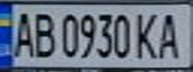0: (57, 9, 81, 58), (112, 10, 133, 60)
3: (93, 10, 115, 60)
9: (78, 9, 96, 58)
A: (154, 9, 187, 61), (9, 8, 36, 59)
B: (30, 8, 57, 59)
K: (133, 9, 160, 60)
